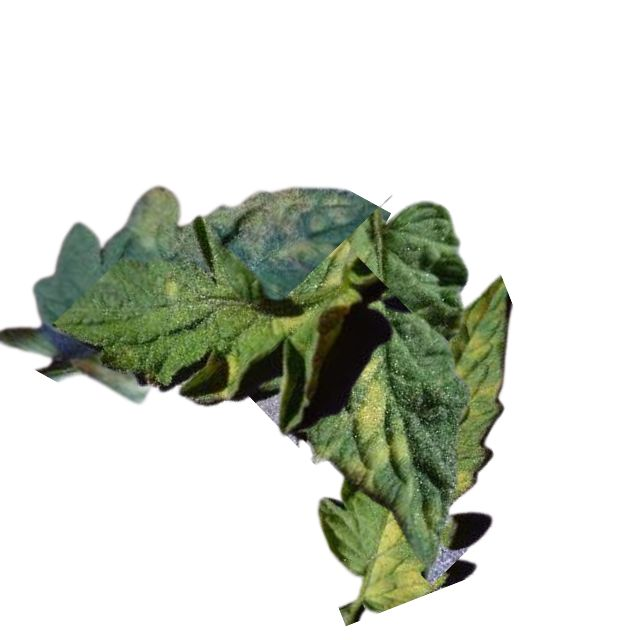Leaf_Mold: (121, 183, 354, 277), (452, 276, 512, 450), (339, 349, 411, 492), (269, 245, 357, 342), (365, 513, 433, 615), (178, 340, 239, 406), (453, 468, 477, 499)
